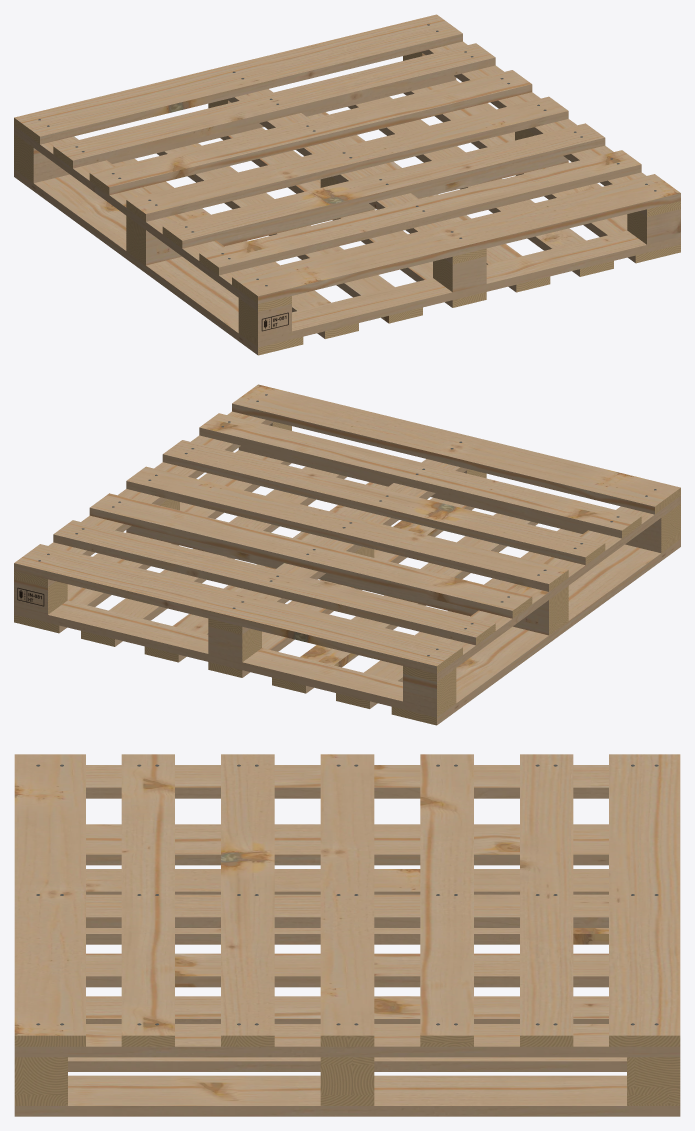
The model's file is pw04-pinewood-pallet-1120x1120-full-base.glb.
3 renders of one model, top to bottom at view 1: azimuth 30°, elevation 25°; view 2: azimuth 150°, elevation 25°; view 3: azimuth 270°, elevation 25°, orthographic. The views are drawn at different scales.
Parts seen in each view (by area): view 1: pw04-pinewood-pallet-1120x1120-full-base; view 2: pw04-pinewood-pallet-1120x1120-full-base; view 3: pw04-pinewood-pallet-1120x1120-full-base.
Part boxes in pixels (x1=…): pw04-pinewood-pallet-1120x1120-full-base: x1=14, y1=14, x2=680, y2=355; pw04-pinewood-pallet-1120x1120-full-base: x1=14, y1=384, x2=680, y2=725; pw04-pinewood-pallet-1120x1120-full-base: x1=14, y1=754, x2=680, y2=1116.
Bounding box in the file's own units: 1.12 × 0.151 × 1.12.
Materials: 4 (3 with a texture image).
